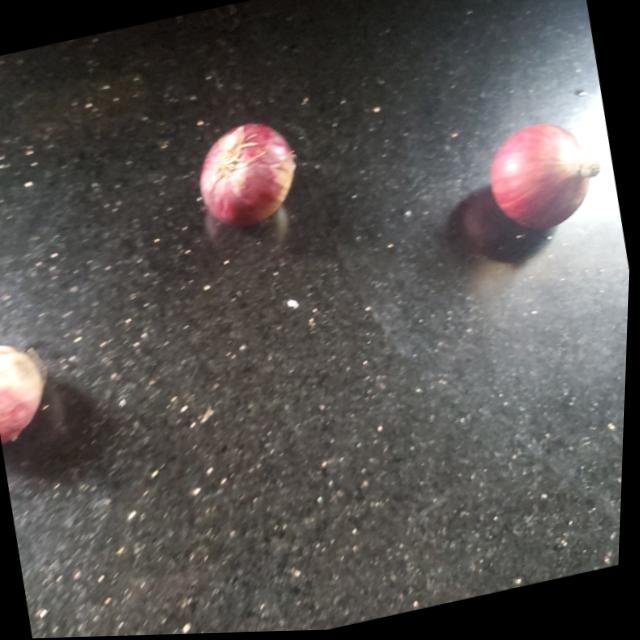onion: (480, 117, 599, 244), (190, 117, 308, 234), (0, 332, 59, 444)
